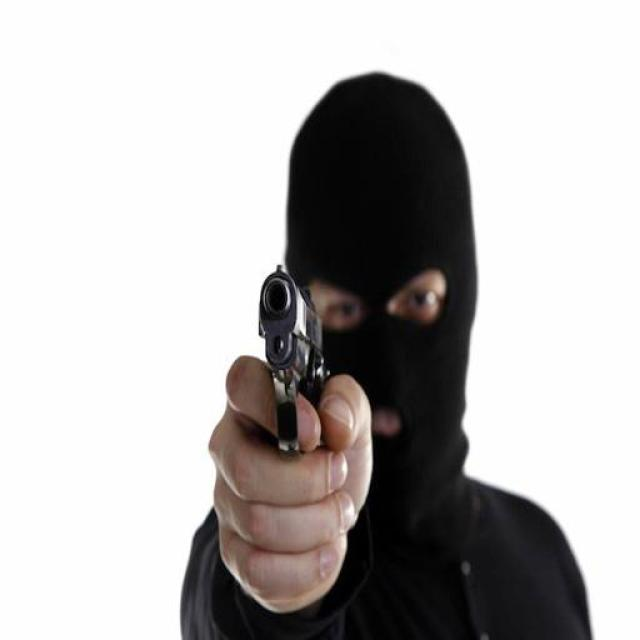pistol: (259, 261, 335, 460)
